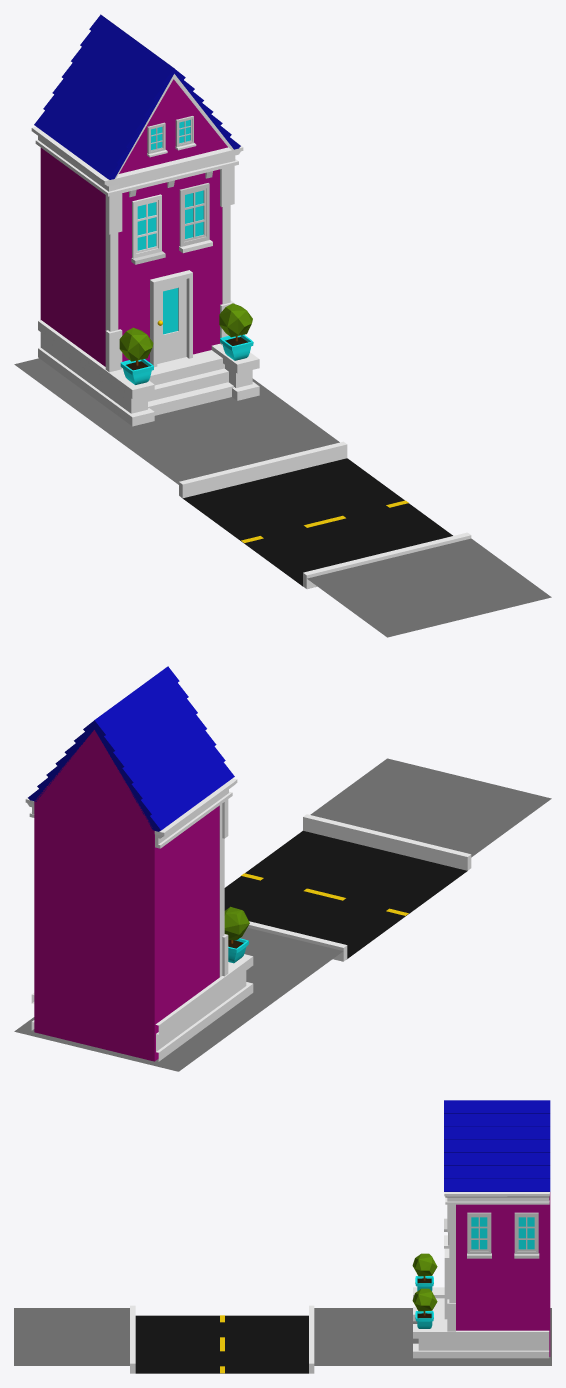
The model's file is Street06.FBX.
The picture shows the model from 3 angles, top to bottom: view 1: azimuth 30°, elevation 25°; view 2: azimuth 150°, elevation 25°; view 3: azimuth 270°, elevation 25°; orthographic projection. The views are drawn at different scales.
Parts seen in each view (by area): view 1: Box079, House002, Plane023, Cylinder021, Cylinder024, Box090, Box086, PivotDoor004, Box085, Box084, Box083, Box080 (+6 smaller); view 2: Box079, House002, Plane023, Cylinder024, Cylinder021, Box090, Box086, Box085, GeoSphere007; view 3: House002, Plane023, Box079, Cylinder021, Cylinder024, Box080, Box086, Box084, FixedWindow018, FixedWindow019, GeoSphere006, GeoSphere007 (+1 smaller).
Part boxes in pixels (left/top/right/bottom): Box079: left=40, top=79, right=227, bottom=366; House002: left=34, top=14, right=471, bottom=588; Plane023: left=182, top=458, right=452, bottom=586; Cylinder021: left=14, top=358, right=339, bottom=484; Cylinder024: left=307, top=538, right=551, bottom=637; Box090: left=38, top=320, right=154, bottom=426; Box086: left=31, top=126, right=243, bottom=196; PivotDoor004: left=150, top=270, right=192, bottom=367; Box085: left=105, top=193, right=122, bottom=372; Box084: left=220, top=166, right=234, bottom=344; Box083: left=149, top=350, right=224, bottom=385; Box080: left=211, top=344, right=259, bottom=400; Box079: left=34, top=730, right=219, bottom=1061; House002: left=28, top=666, right=471, bottom=961; Plane023: left=224, top=831, right=467, bottom=958; Cylinder024: left=310, top=758, right=551, bottom=857; Cylinder021: left=14, top=927, right=343, bottom=1071; Box090: left=155, top=954, right=253, bottom=1061; Box086: left=25, top=778, right=237, bottom=848; Box085: left=219, top=799, right=228, bottom=976; GeoSphere007: left=224, top=906, right=249, bottom=940; House002: left=130, top=1100, right=550, bottom=1373; Plane023: left=135, top=1315, right=308, bottom=1373; Box079: left=456, top=1192, right=550, bottom=1356; Cylinder021: left=314, top=1308, right=551, bottom=1365; Cylinder024: left=14, top=1308, right=129, bottom=1365; Box080: left=413, top=1324, right=549, bottom=1358; Box086: left=444, top=1192, right=549, bottom=1204; Box084: left=447, top=1204, right=455, bottom=1331; FixedWindow018: left=467, top=1212, right=491, bottom=1253; FixedWindow019: left=514, top=1212, right=538, bottom=1253; GeoSphere006: left=412, top=1288, right=437, bottom=1311; GeoSphere007: left=412, top=1253, right=437, bottom=1276.
Size of the model in its own units: 31.89 by 62.97 by 125.
